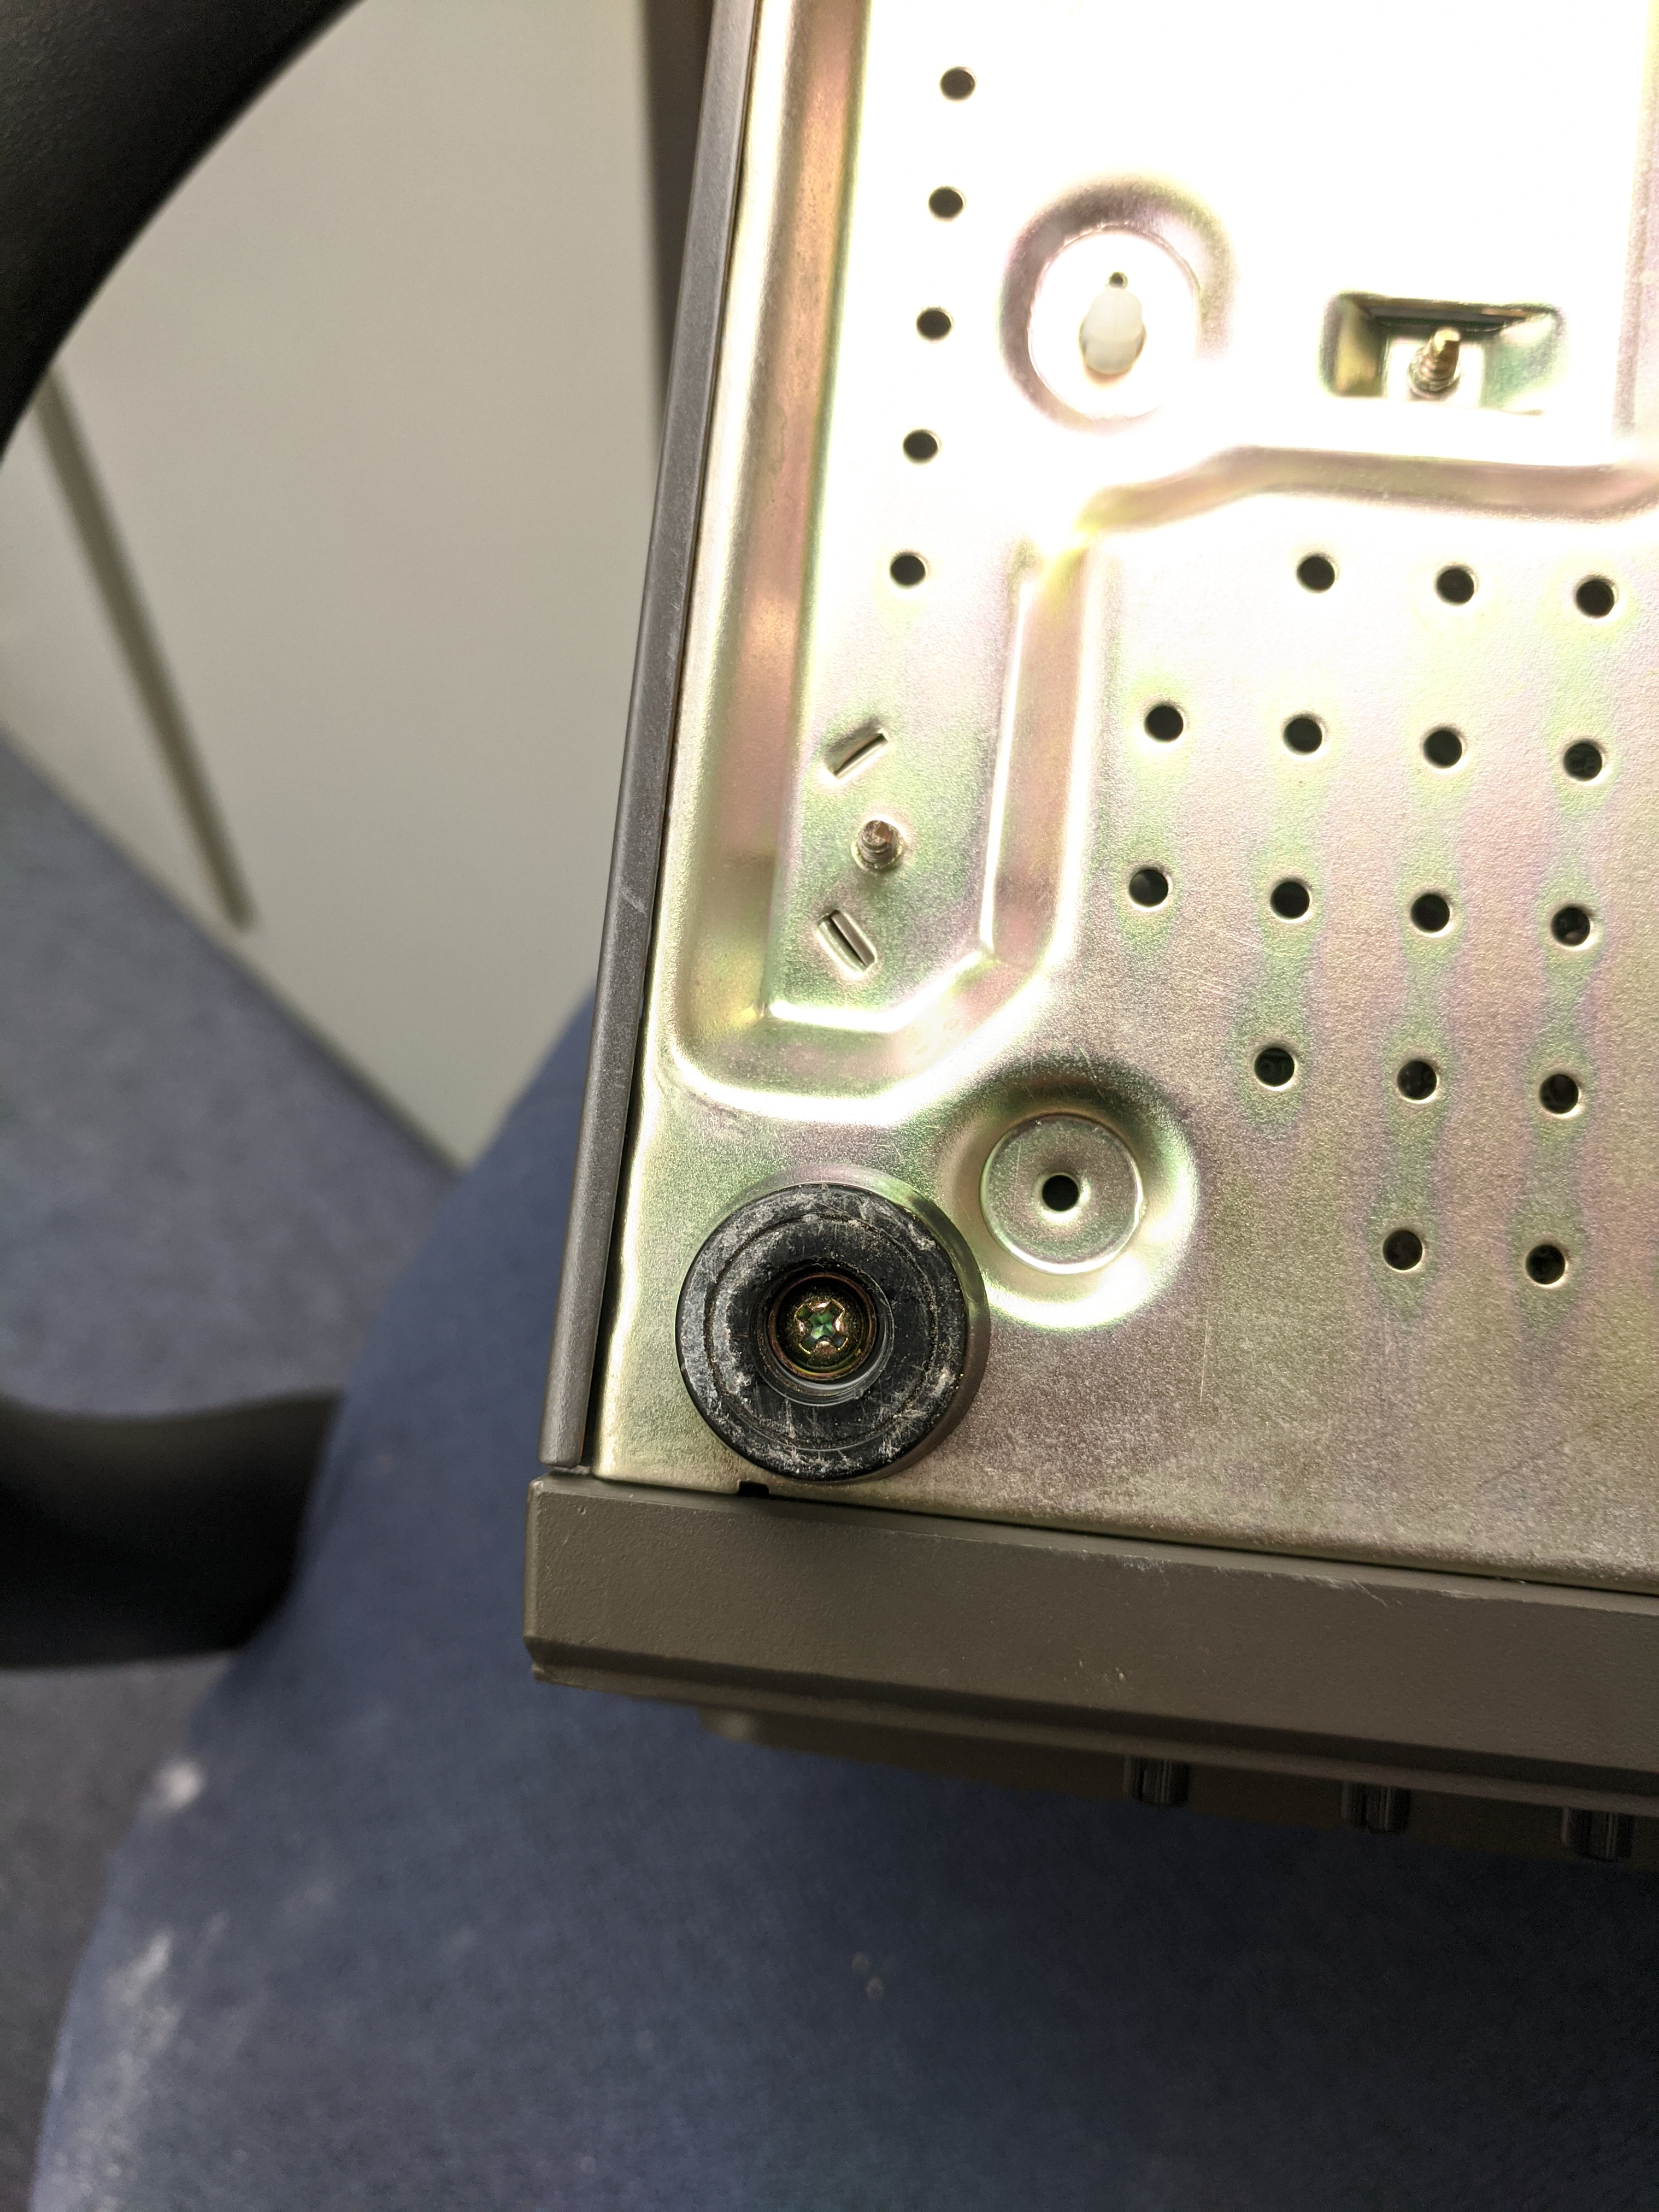cross_recessed_screw: (762, 1256, 887, 1383)
